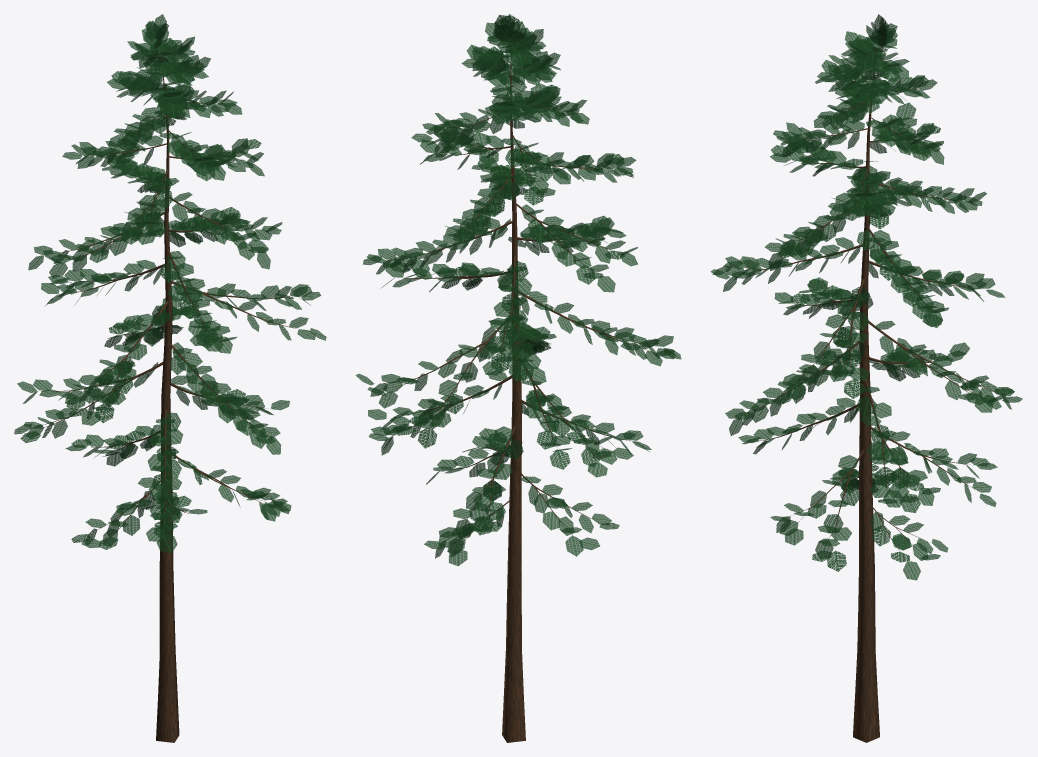
Rendered from abeto.glb.
3 renders of one model, left to right at view 1: azimuth 30°, elevation 25°; view 2: azimuth 150°, elevation 25°; view 3: azimuth 270°, elevation 25°, orthographic.
Parts seen in each view (by area): view 1: leaves, tree; view 2: leaves, tree; view 3: leaves, tree.
Boxes of the visible parts, box(x1,y1,x2,y2) form: leaves: box(14, 14, 326, 552); tree: box(41, 50, 303, 742); leaves: box(355, 14, 681, 566); tree: box(380, 37, 655, 742); leaves: box(710, 14, 1022, 580); tree: box(744, 43, 993, 742).
Bounding box in the file's own units: 0.3954 × 1 × 0.3953.
Materials: 2 (2 with a texture image).
